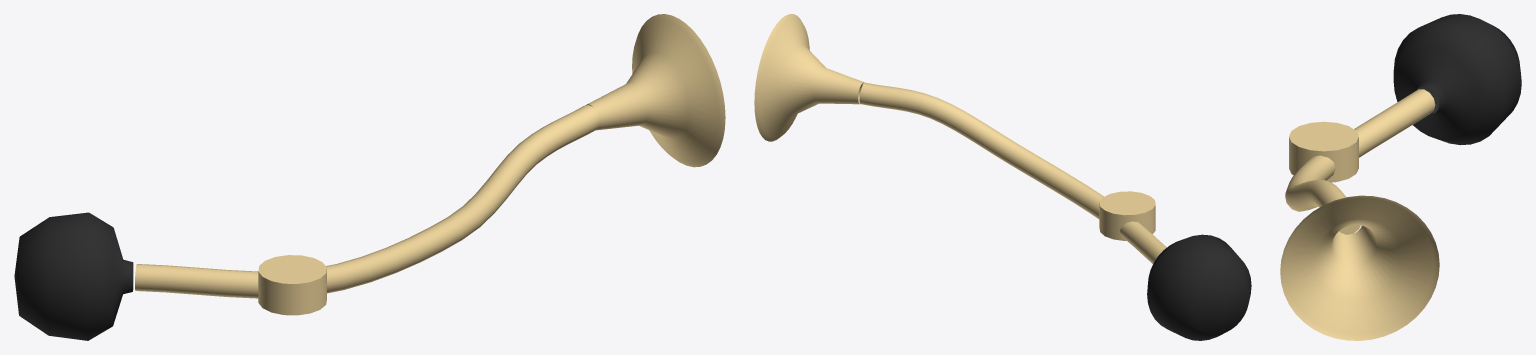
Rendered from bike_vintage_vtwin__horn.glb.
3 views of the same model, side by side, from view 1: azimuth 30°, elevation 25°; view 2: azimuth 150°, elevation 25°; view 3: azimuth 270°, elevation 25° (orthographic). The views are drawn at different scales.
Parts seen in each view (by area): view 1: electrical__horn, electrical__horn__bulb; view 2: electrical__horn, electrical__horn__bulb; view 3: electrical__horn, electrical__horn__bulb.
Boxes of the visible parts, bbox=[...] form: electrical__horn: bbox=[135, 14, 725, 315]; electrical__horn__bulb: bbox=[14, 212, 133, 340]; electrical__horn: bbox=[754, 14, 1166, 263]; electrical__horn__bulb: bbox=[1147, 234, 1251, 340]; electrical__horn: bbox=[1280, 89, 1439, 340]; electrical__horn__bulb: bbox=[1393, 14, 1521, 145].
Bounding box in the file's own units: 29.05 × 9.6 × 9.64.
